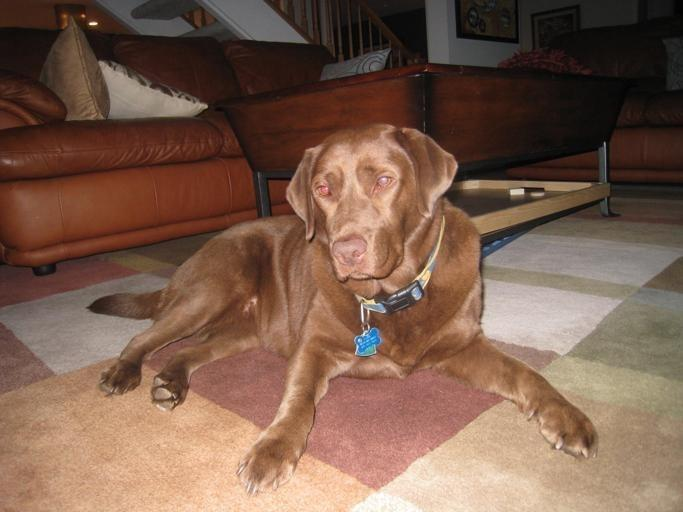dog: (90, 125, 596, 492)
